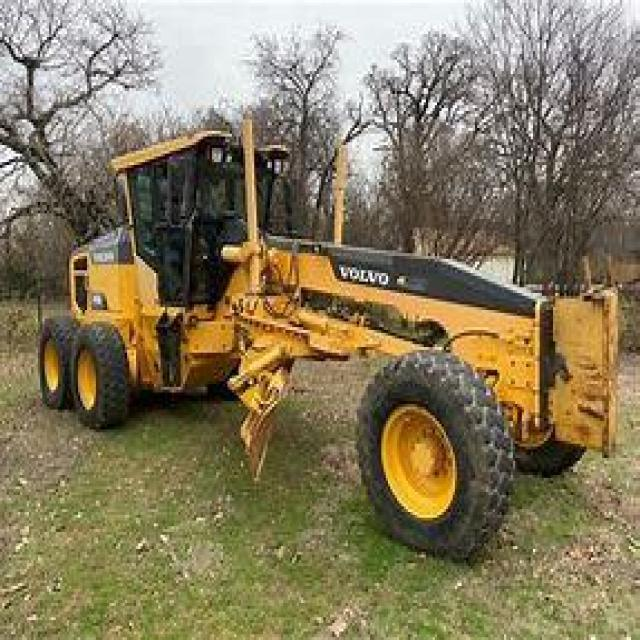Grader: (33, 122, 609, 575)
